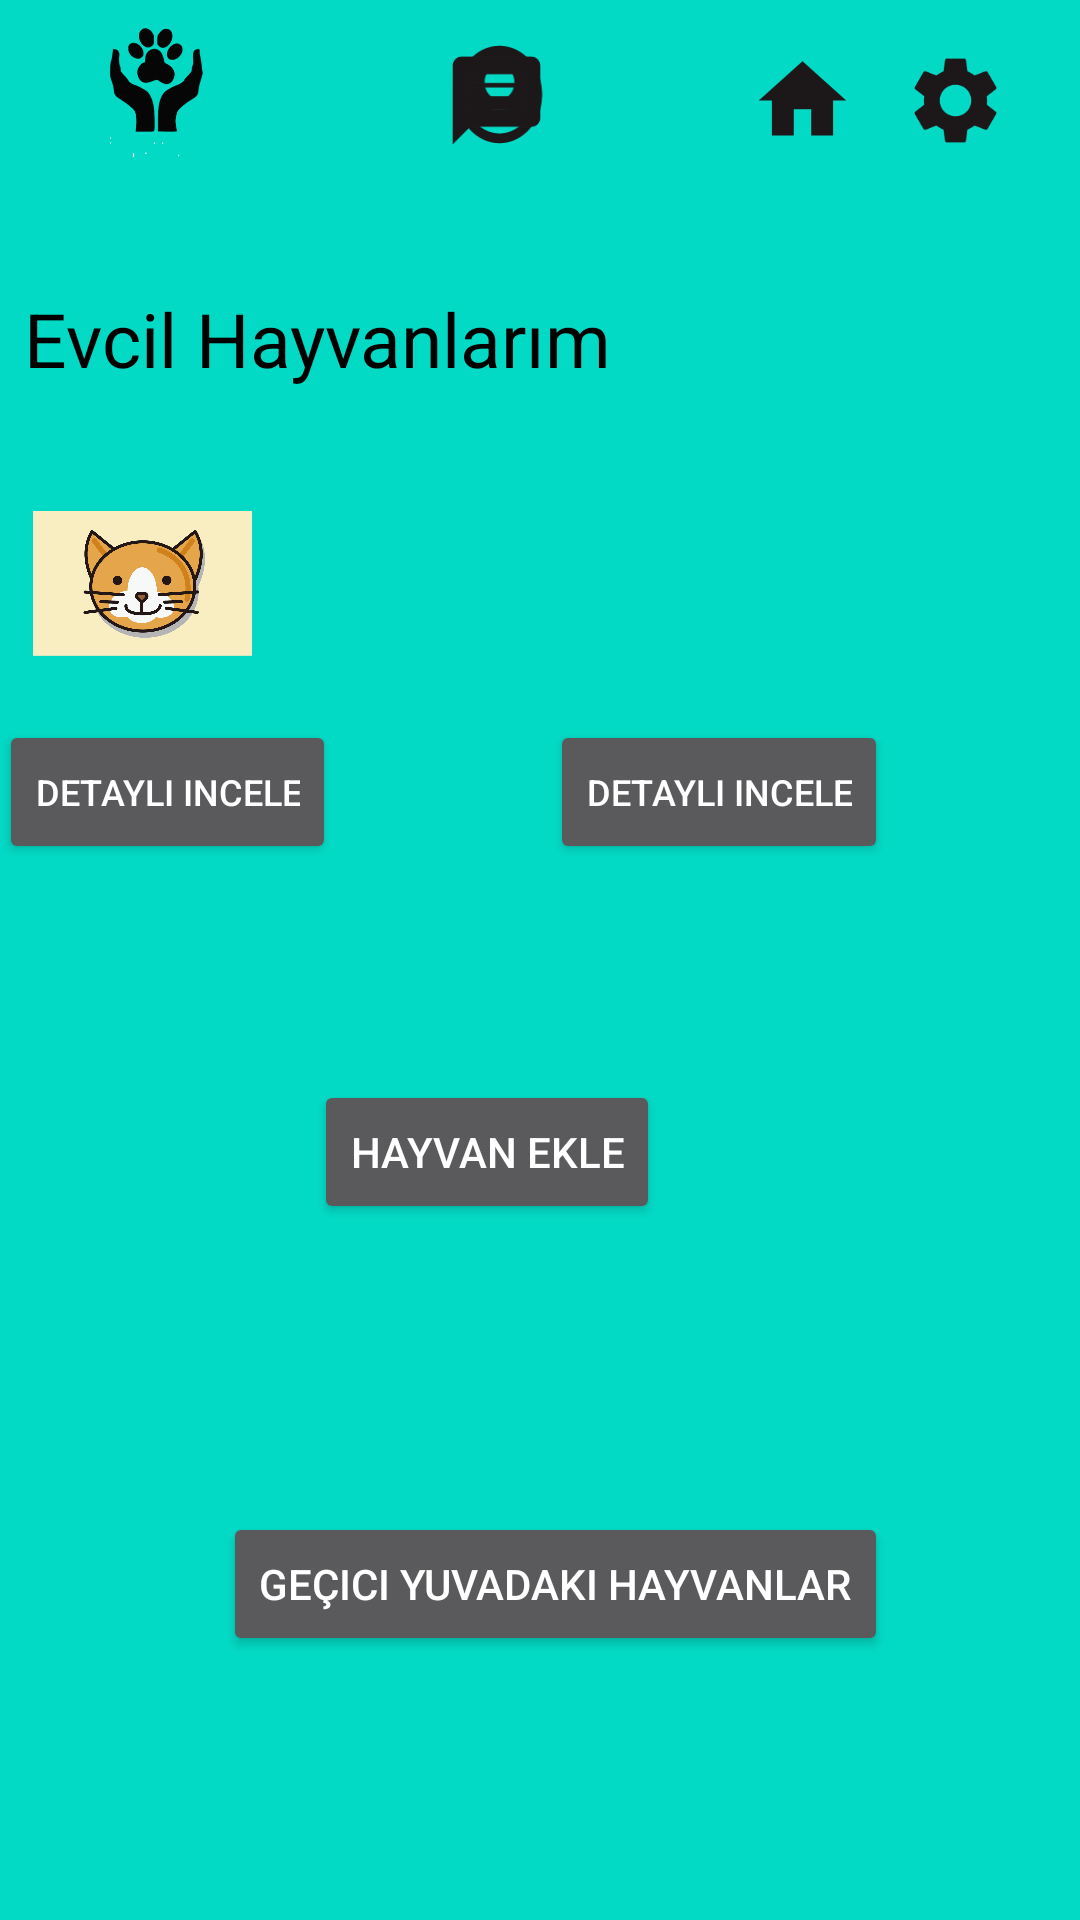

Icons on this 1080px x 1920px Android screen, each with the point to tap as point (x, y):
home: point (802, 98)
settings: point (955, 100)
